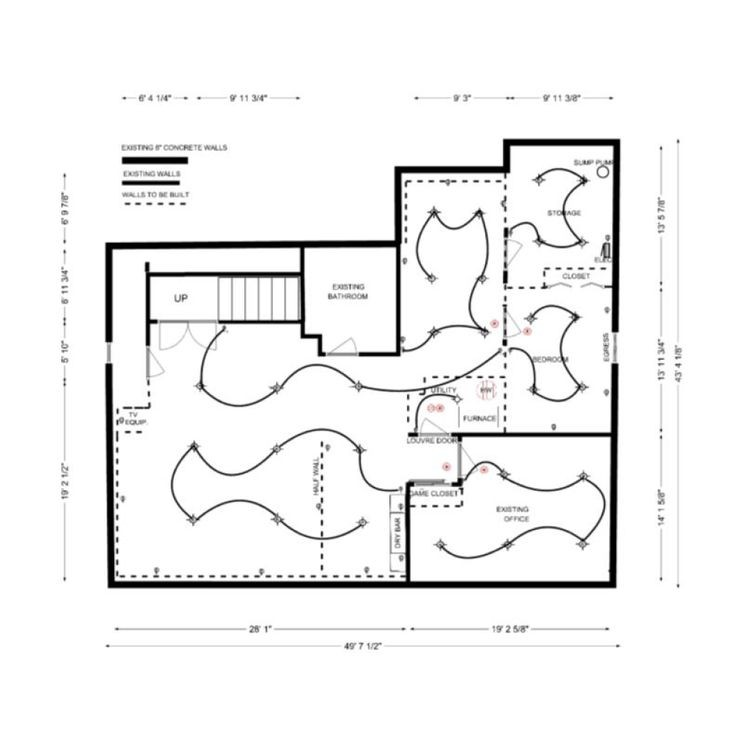door: (155, 315, 220, 358), (498, 307, 529, 348), (324, 338, 368, 365), (498, 229, 528, 262), (413, 421, 451, 439)
room: (93, 220, 322, 586), (377, 125, 621, 432), (390, 425, 619, 586), (292, 240, 406, 366)
wall: (106, 574, 619, 594), (106, 235, 399, 254), (100, 363, 121, 589), (602, 365, 620, 567), (608, 135, 626, 333), (401, 157, 504, 185), (500, 131, 623, 152), (453, 429, 619, 442), (153, 263, 294, 277), (291, 248, 312, 338), (391, 245, 408, 352), (139, 259, 158, 343), (390, 161, 410, 240), (100, 238, 115, 340), (498, 133, 524, 180), (222, 316, 306, 329)
